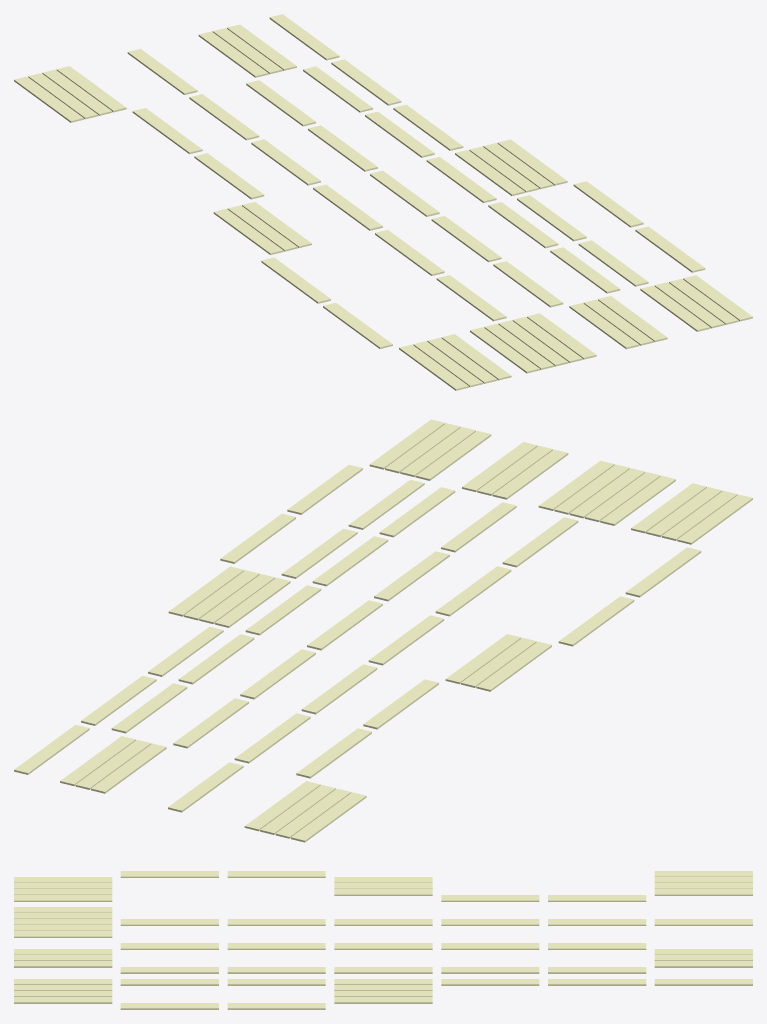
The model's file is marking_stop_text_white.glb.
The picture shows the model from 3 angles, top to bottom: view 1: azimuth 30°, elevation 25°; view 2: azimuth 150°, elevation 25°; view 3: azimuth 270°, elevation 25°; orthographic projection. The views are drawn at different scales.
Visible parts, largest first — view 1: stop_49, stop_55, stop_20, stop_32, stop_42, stop_46, stop_54, stop_00, stop_06, stop_09, stop_25, stop_26 (+45 smaller); view 2: stop_24, stop_05, stop_30, stop_04, stop_20, stop_21, stop_22, stop_23, stop_34, stop_36, stop_38, stop_11 (+45 smaller); view 3: stop_03, stop_04, stop_05, stop_08, stop_09, stop_10, stop_14, stop_19, stop_20, stop_21, stop_22, stop_23 (+45 smaller).
Boxes of the visible parts, x1,y1,x2,y2 form: stop_49: (573, 181, 643, 227); stop_55: (331, 59, 401, 105); stop_20: (436, 275, 506, 321); stop_32: (488, 202, 558, 248); stop_42: (640, 285, 710, 331); stop_46: (578, 240, 648, 286); stop_54: (393, 104, 463, 150); stop_00: (399, 344, 468, 390); stop_06: (213, 208, 283, 254); stop_09: (194, 153, 264, 199); stop_25: (127, 49, 197, 94); stop_26: (569, 303, 639, 349); stop_24: (234, 713, 310, 763); stop_05: (558, 596, 634, 646); stop_30: (379, 487, 455, 537); stop_04: (625, 547, 701, 597); stop_20: (502, 517, 578, 567); stop_21: (435, 566, 511, 616); stop_22: (368, 615, 444, 665); stop_23: (301, 664, 377, 714); stop_34: (245, 585, 321, 635); stop_36: (178, 634, 254, 684); stop_38: (111, 683, 187, 733); stop_11: (291, 792, 366, 842); stop_03: (14, 895, 112, 901); stop_04: (120, 871, 218, 877); stop_05: (227, 871, 325, 877); stop_08: (334, 889, 432, 895); stop_09: (441, 895, 539, 901); stop_10: (548, 895, 646, 901); stop_14: (654, 889, 752, 895); stop_19: (14, 931, 112, 937); stop_20: (120, 919, 218, 925); stop_21: (227, 919, 325, 925); stop_22: (334, 919, 432, 925); stop_23: (441, 919, 539, 925).
Size of the model in its own units: 1.02 by 0.005 by 2.31.
